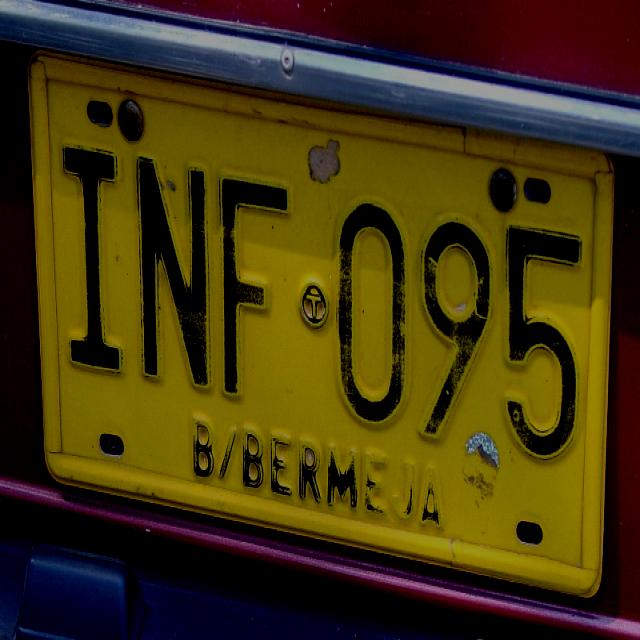placa: (22, 31, 619, 617)
